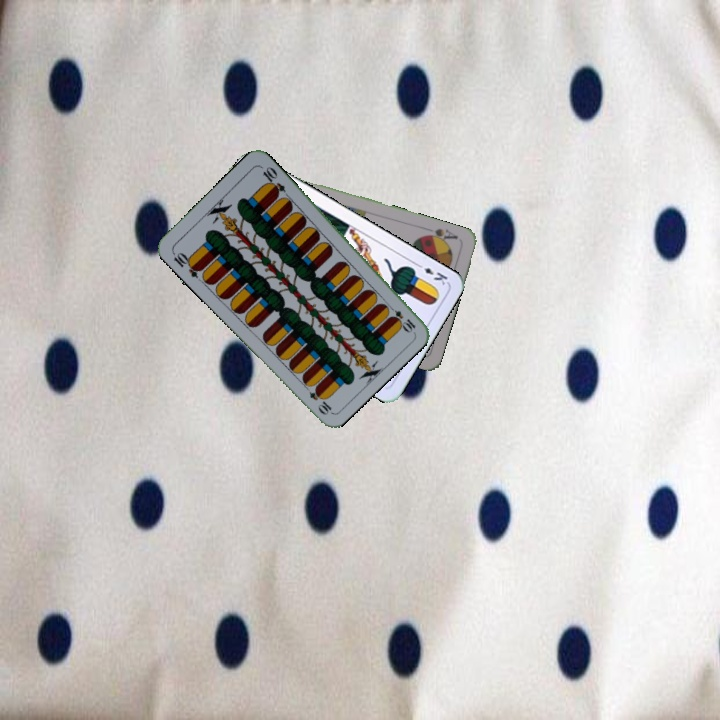E10: (383, 301, 418, 335), (168, 248, 204, 280)
EK: (412, 259, 450, 288)
SA: (420, 224, 461, 246)
